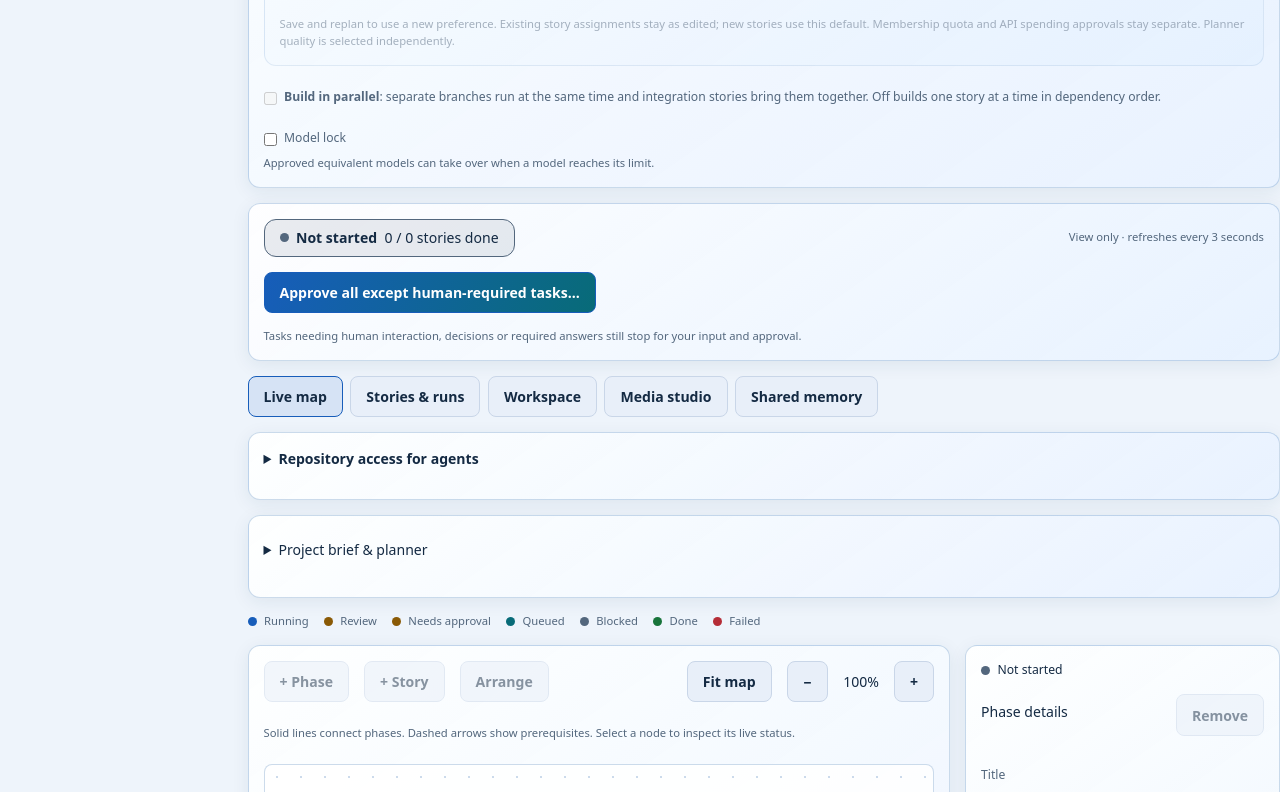
Test: offers the Media studio for reference art even without media slots, and says how slots appear
(page scrolled)
Click the button "Media studio". click: (666, 397)
box: [604, 376, 728, 417]
(page scrolled)
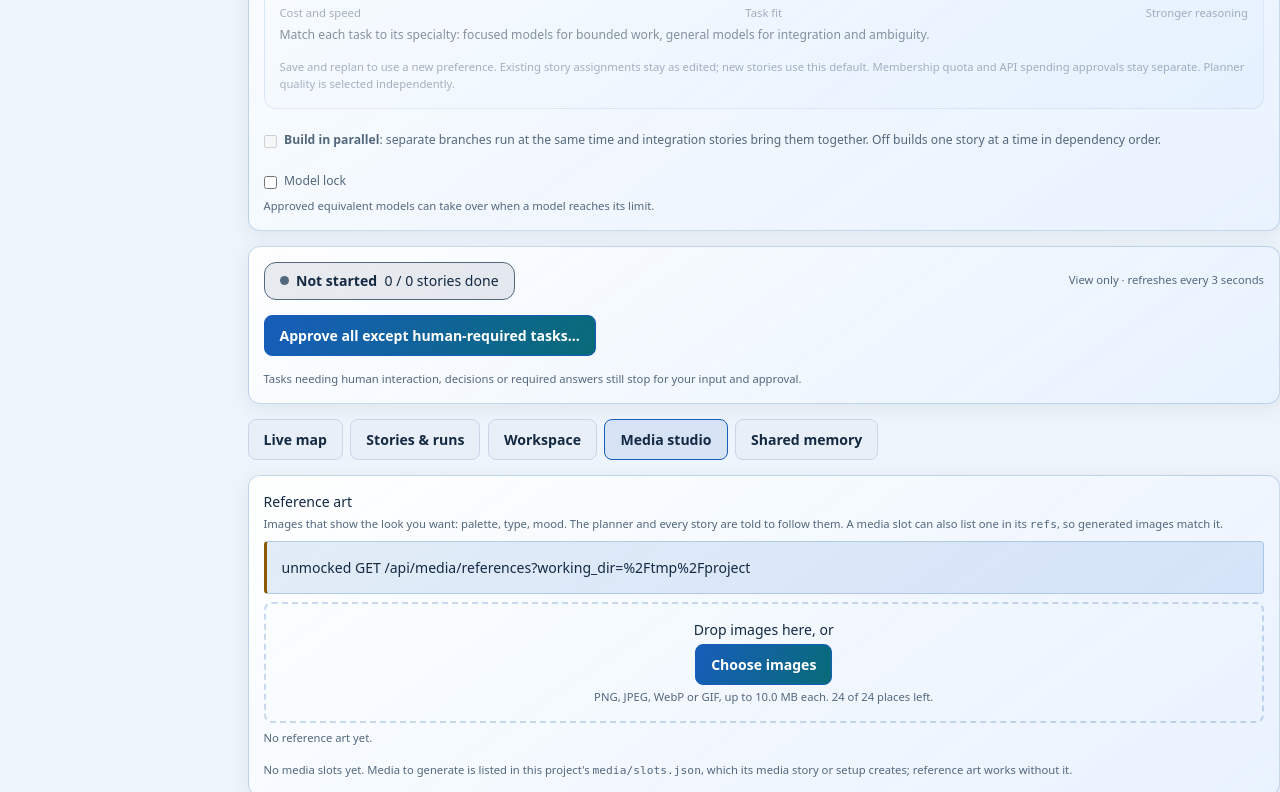
Result: the element with test id "reference-art" is shown at [264, 491, 1264, 747]
Result: the element with test id "no-media-slots" shows "media/slots.json" at [592, 764, 701, 777]
